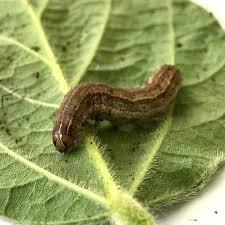fallarmy_worm: (48, 62, 186, 153)
